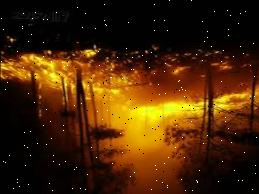fire: (0, 37, 254, 128)
